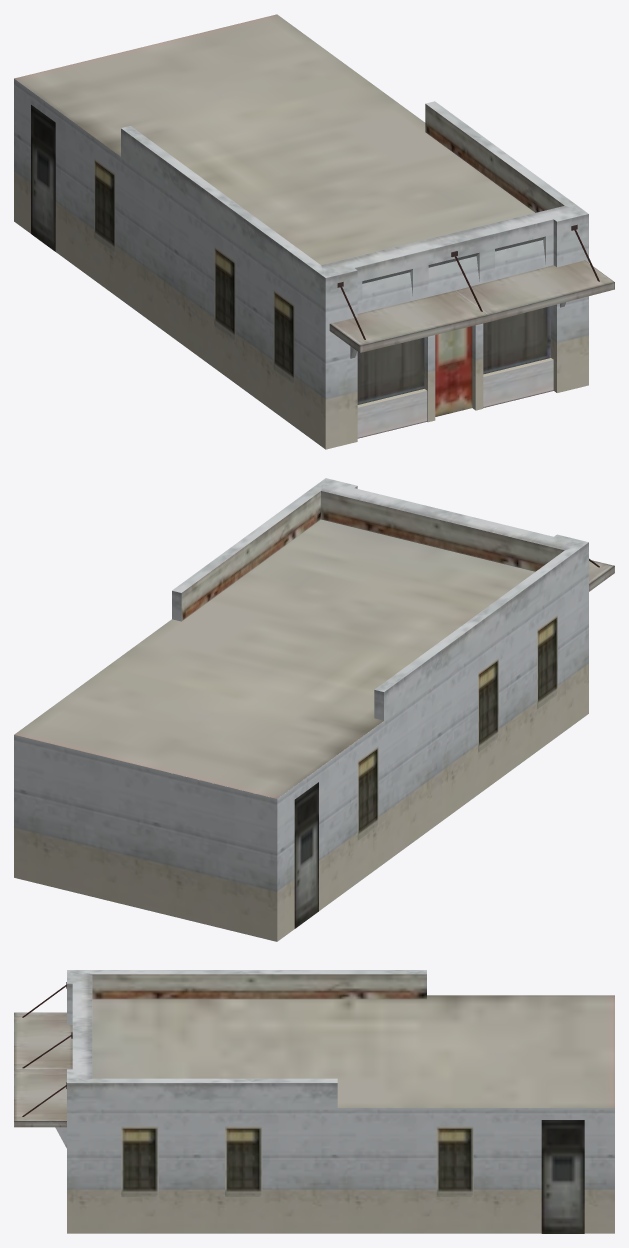
Rendered from rural-store-3.lod1.glb.
3 views of the same model, one above another, from view 1: azimuth 30°, elevation 25°; view 2: azimuth 150°, elevation 25°; view 3: azimuth 270°, elevation 25° (orthographic). The views are drawn at different scales.
Visible parts, largest first — view 1: Rural_StoreSmall_3_Rural_Facade_FLR_2_0, Rural_StoreSmall_3_Rural_Midcity_Walls_FLR_1_0; view 2: Rural_StoreSmall_3_Rural_Facade_FLR_2_0, Rural_StoreSmall_3_Rural_Midcity_Walls_FLR_1_0; view 3: Rural_StoreSmall_3_Rural_Facade_FLR_2_0, Rural_StoreSmall_3_Rural_Midcity_Walls_FLR_1_0.
Boxes of the visible parts, x1,y1,x2,y2 form: Rural_StoreSmall_3_Rural_Facade_FLR_2_0: (14,14,614,416); Rural_StoreSmall_3_Rural_Midcity_Walls_FLR_1_0: (14,79,588,449); Rural_StoreSmall_3_Rural_Facade_FLR_2_0: (14,491,614,928); Rural_StoreSmall_3_Rural_Midcity_Walls_FLR_1_0: (14,478,588,941); Rural_StoreSmall_3_Rural_Facade_FLR_2_0: (14,974,614,1233); Rural_StoreSmall_3_Rural_Midcity_Walls_FLR_1_0: (55,970,614,1233).
Size of the model in its own units: 6.06 by 3.76 by 13.59.
2 materials, 2 textured.
